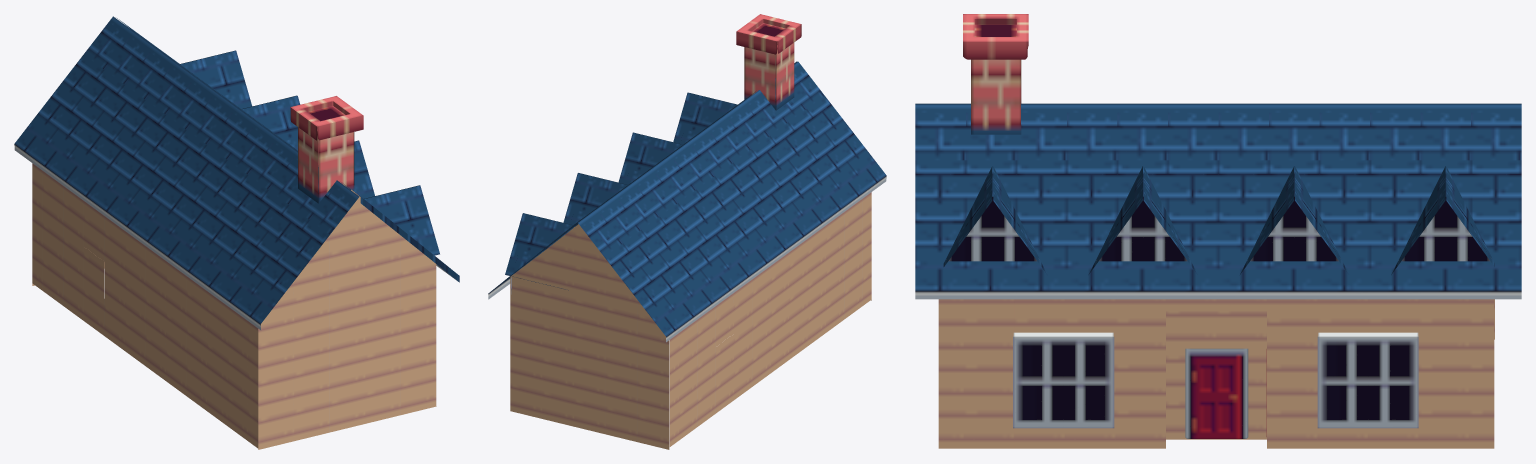
Rendered from uglyhouse.fbx.
The picture shows the model from 3 angles, left to right: view 1: azimuth 30°, elevation 25°; view 2: azimuth 150°, elevation 25°; view 3: azimuth 270°, elevation 25°; orthographic projection. The views are drawn at different scales.
Parts seen in each view (by area): view 1: Cube; view 2: Cube; view 3: Cube.
Boxes of the visible parts, x1,y1,x2,y2 form: Cube: (14,16,459,449); Cube: (488,14,886,449); Cube: (915,14,1521,448).
Bounding box in the file's own units: 279 × 412 × 600.
1 material, 1 textured.
